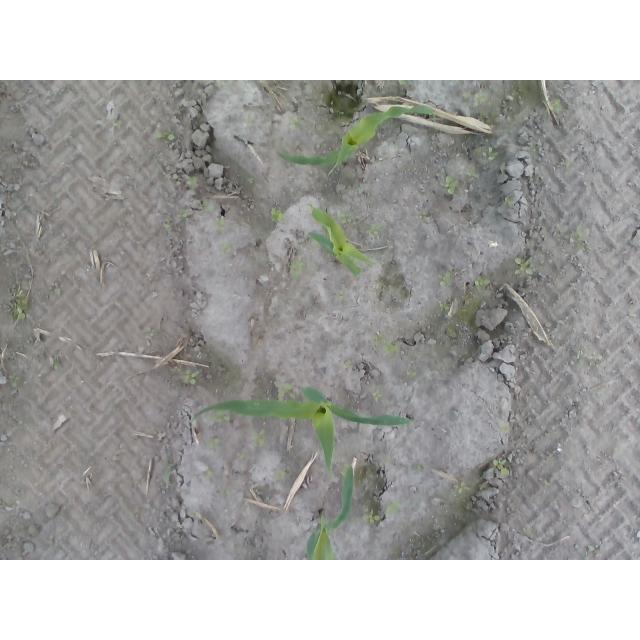Maize: (190, 383, 414, 471), (276, 104, 436, 177), (309, 205, 380, 280), (305, 463, 356, 559)
Weeds: (6, 286, 31, 321), (372, 334, 401, 354), (462, 90, 491, 106), (491, 456, 513, 476), (477, 143, 500, 161), (514, 256, 534, 276), (440, 174, 459, 195), (451, 480, 474, 497), (182, 369, 201, 388), (276, 381, 294, 401), (366, 508, 382, 527), (206, 409, 226, 423), (438, 272, 454, 288), (289, 262, 304, 279), (157, 131, 178, 143), (387, 498, 402, 514), (253, 430, 268, 446), (476, 277, 493, 289), (274, 467, 288, 480), (51, 358, 65, 371), (9, 375, 22, 389), (183, 175, 197, 188), (209, 435, 221, 450), (464, 292, 480, 303), (372, 388, 385, 401), (550, 98, 563, 111), (270, 210, 283, 223), (575, 226, 586, 241), (220, 242, 233, 254), (367, 224, 380, 236), (176, 209, 189, 220), (215, 214, 225, 226), (438, 302, 450, 311), (412, 463, 422, 473), (336, 290, 345, 301), (397, 80, 410, 86)
